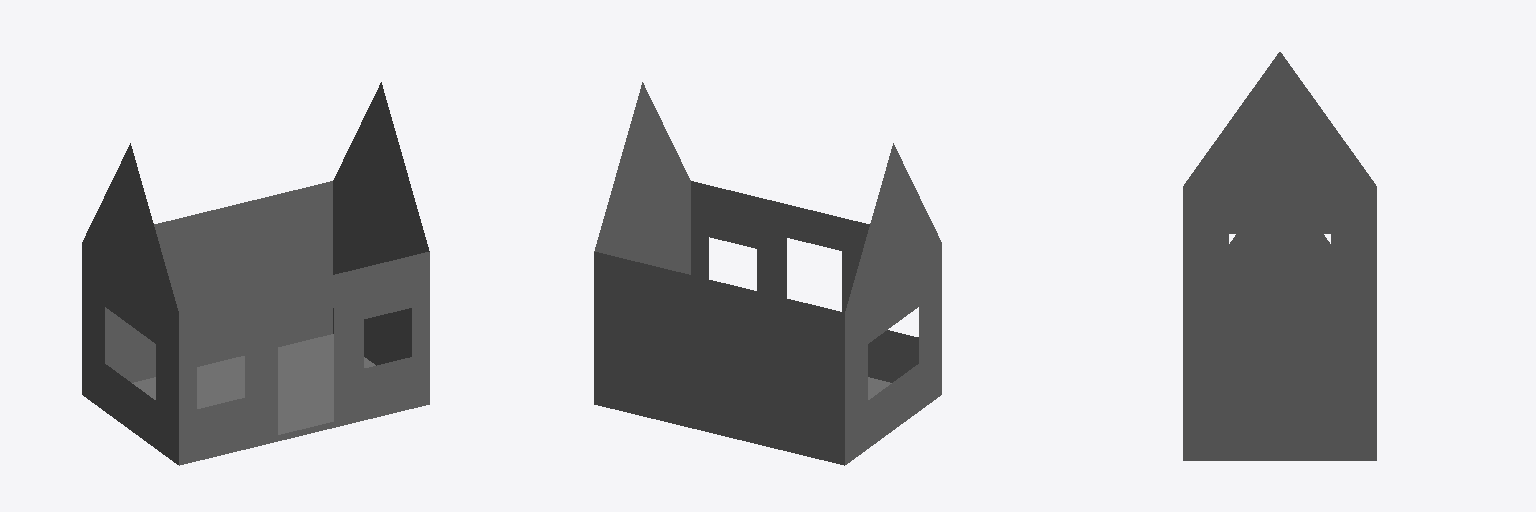
The model's file is casa.obj.
The picture shows the model from 3 angles: view 1: azimuth 30°, elevation 25°; view 2: azimuth 150°, elevation 25°; view 3: azimuth 270°, elevation 25°; orthographic projection.
Visible parts, largest first — view 1: Modelo; view 2: Modelo; view 3: Modelo.
Boxes of the visible parts, x1=… form: Modelo: x1=82, y1=82, x2=429, y2=465; Modelo: x1=594, y1=82, x2=941, y2=465; Modelo: x1=1183, y1=52, x2=1376, y2=460.
Bounding box in the file's own units: 60 × 65.77 × 40.